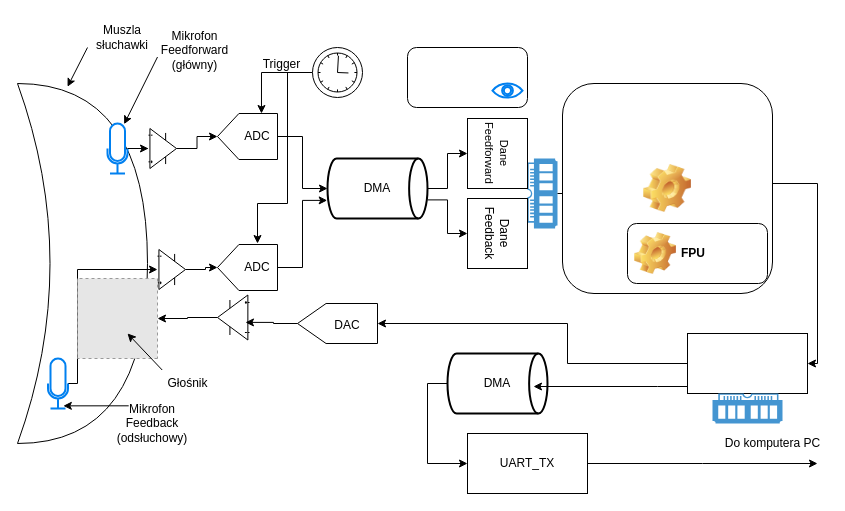
Some shapes in this 845 by 511 pixel diagram are drawn without their labels. Grey dashed boxes stand in for pictures. The box of each missing label's shape, as (x1, y1, x2, y2) in pixels:
Dane obliczone: (686, 332, 808, 394)
Jednostka obliczeniowa (CPU): (562, 82, 772, 294)
NVIC: (406, 46, 528, 108)
Timer 3: (312, 46, 362, 98)
